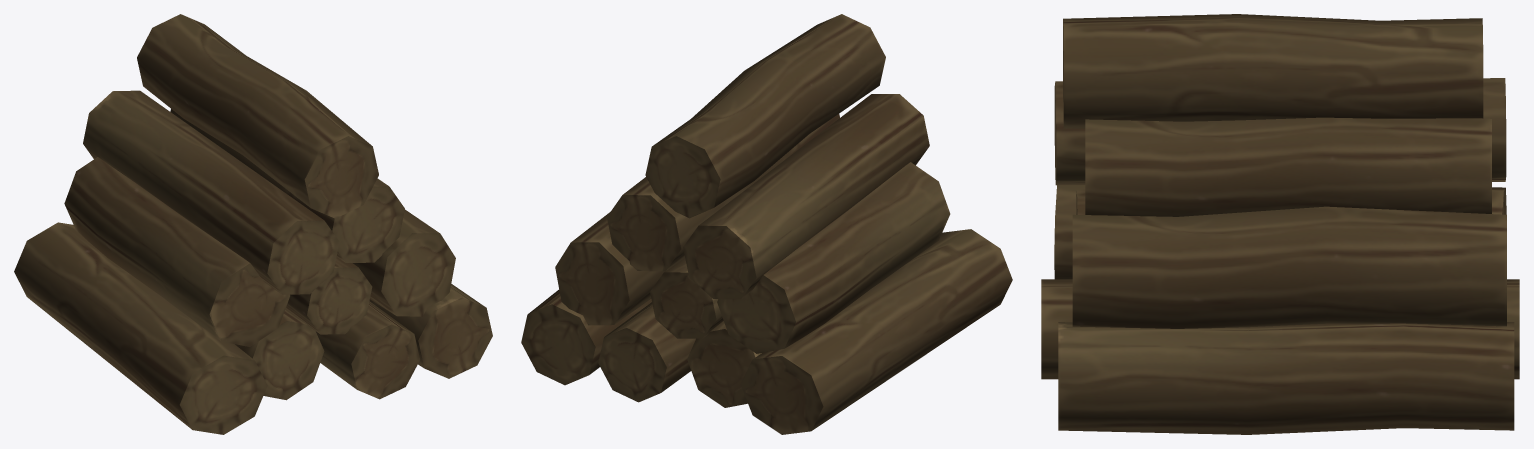
File: O_LogPack.fbx
3 views of the same model, side by side, from view 1: azimuth 30°, elevation 25°; view 2: azimuth 150°, elevation 25°; view 3: azimuth 270°, elevation 25° (orthographic). The views are drawn at different scales.
Visible parts, largest first — view 1: O_LogPack; view 2: O_LogPack; view 3: O_LogPack.
Part boxes in pixels (box(x1,y1,x2,y2)): O_LogPack: box(14, 14, 492, 434); O_LogPack: box(521, 14, 1012, 434); O_LogPack: box(1041, 14, 1519, 434).
Size of the model in its own units: 104 by 87.17 by 110.
